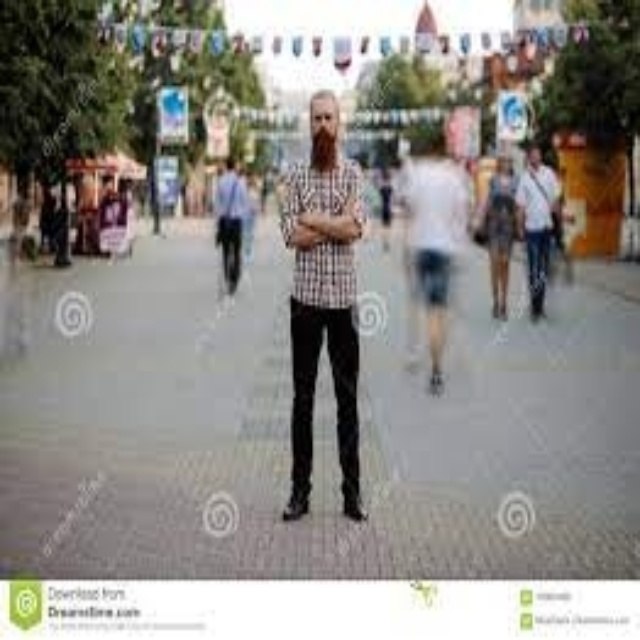Walking: (269, 93, 376, 526), (400, 139, 468, 385), (521, 151, 565, 325), (483, 152, 520, 319), (210, 161, 250, 310)
